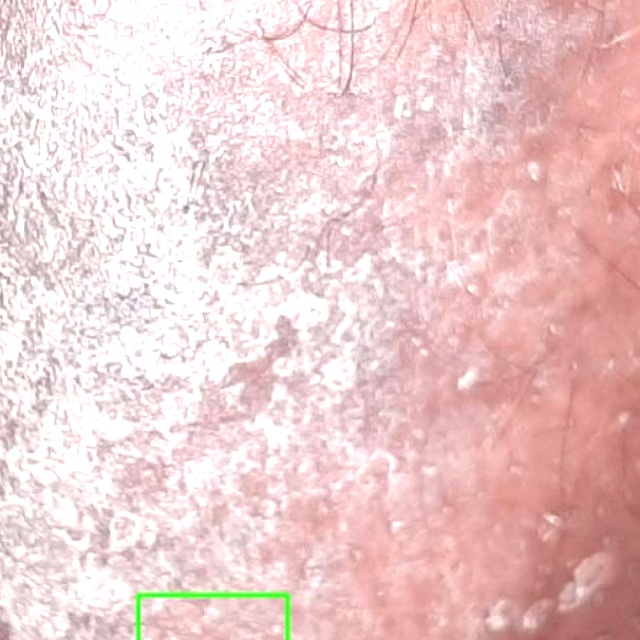Tinea Corporis: (138, 595, 287, 639)
